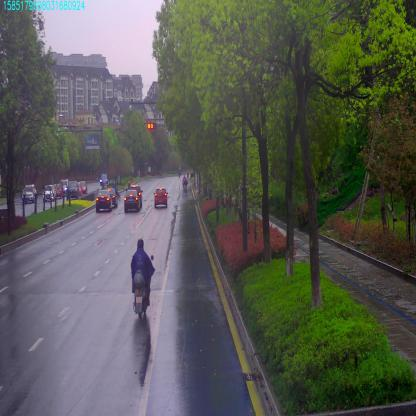traffic-light: (146, 121, 156, 130)
